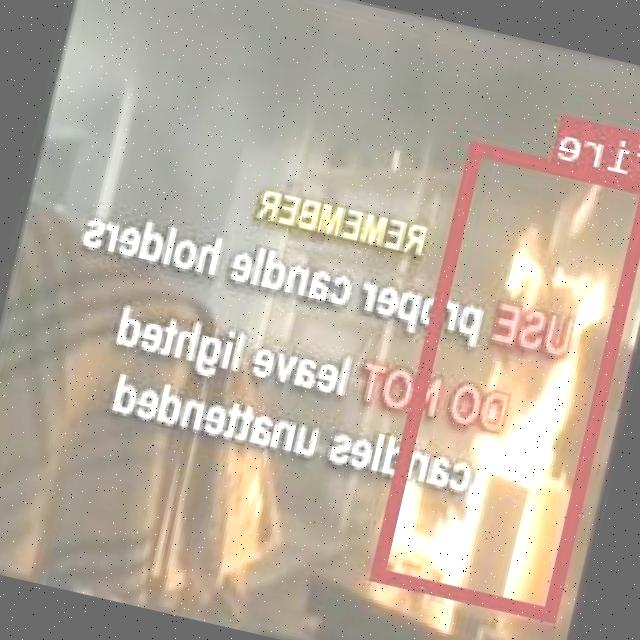fire: (372, 139, 640, 620)
